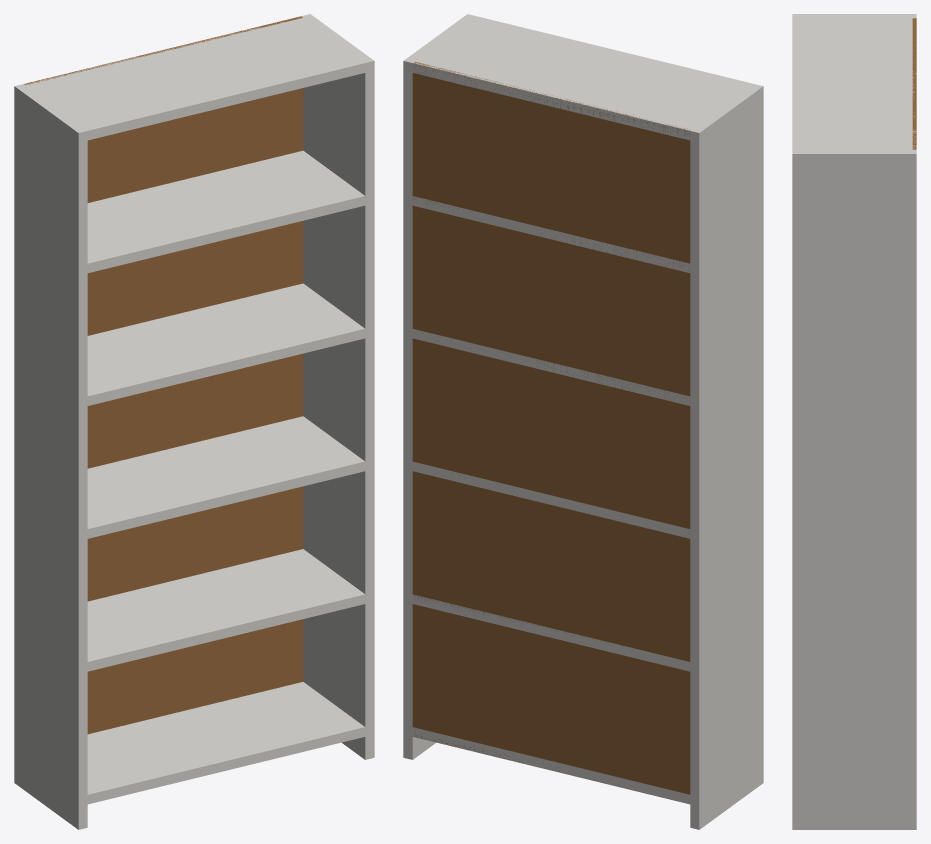
File: shelf.glb
3 views of the same model, side by side, from view 1: azimuth 30°, elevation 25°; view 2: azimuth 150°, elevation 25°; view 3: azimuth 270°, elevation 25° (orthographic). The views are drawn at different scales.
Parts seen in each view (by area): view 1: shelf; view 2: shelf; view 3: shelf.
Part boxes in pixels (bbox=[...]): shelf: bbox=[14, 14, 374, 829]; shelf: bbox=[403, 14, 763, 829]; shelf: bbox=[792, 14, 916, 829].
Bounding box in the file's own units: 0.8 × 1.8 × 0.3.
